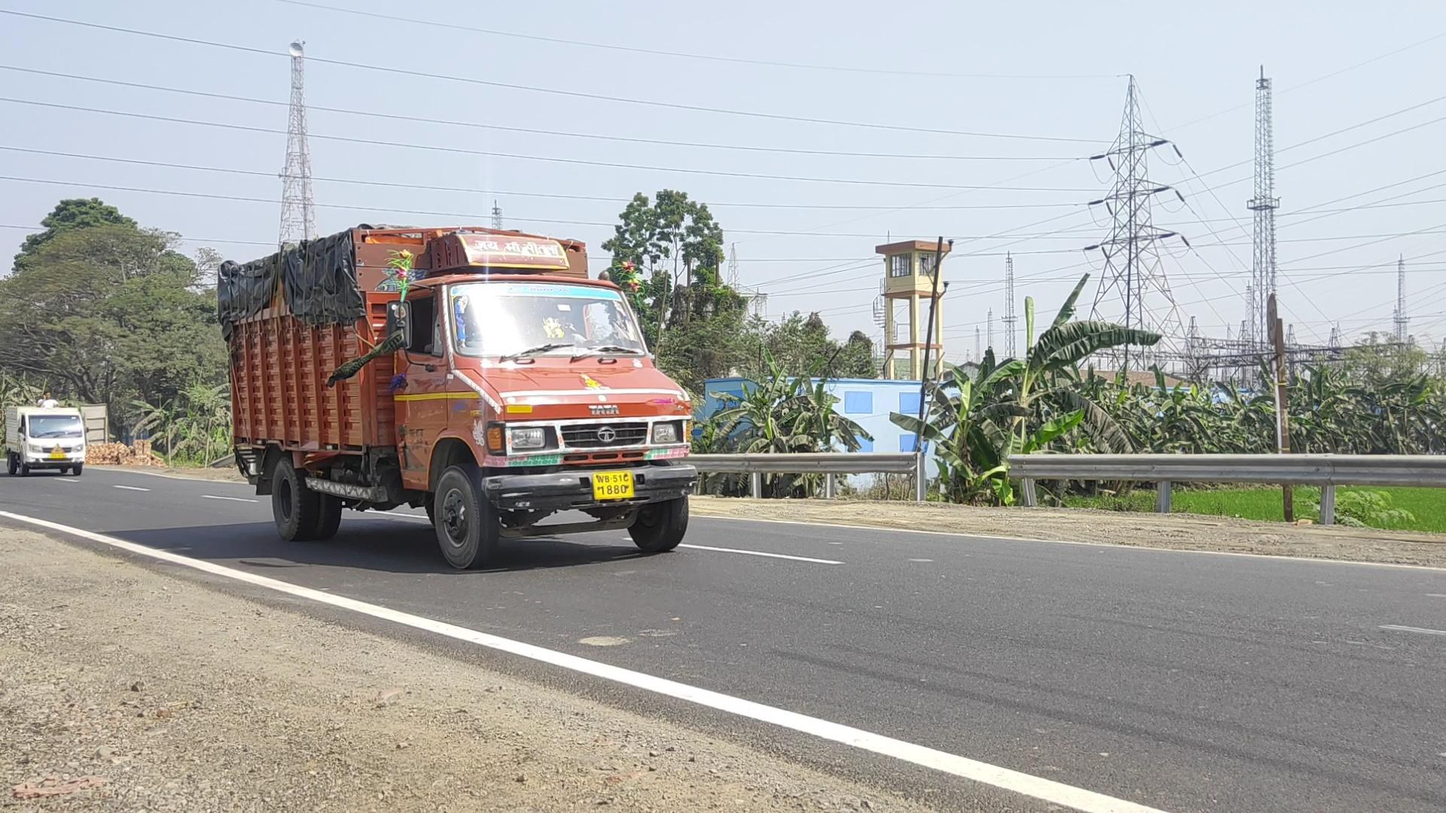truck: (219, 226, 697, 573)
van: (5, 391, 89, 477)
